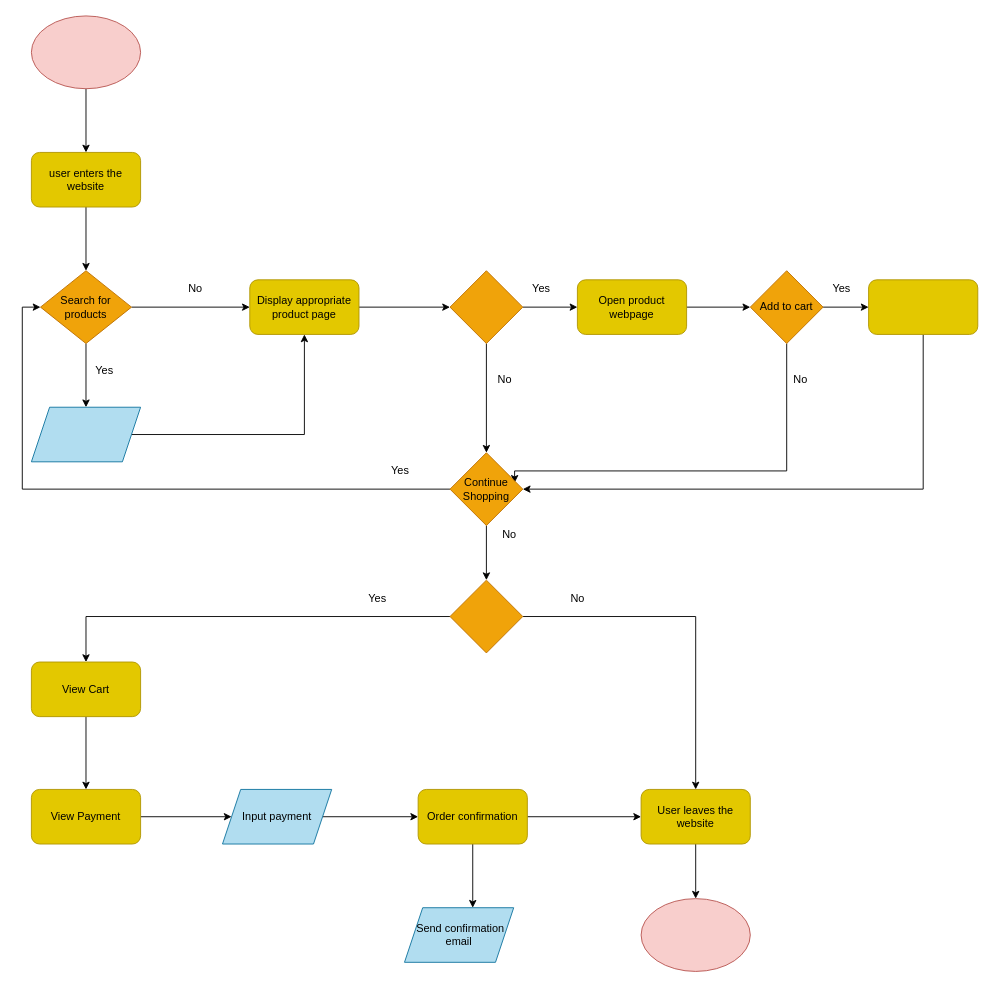
The diagram is 994 pixels wide and 987 high, and some of its shapes have lost their labels. The shapes that lost their labels are listed below. From the top down, each one's centre as x and y in pixels, then its label:
At point (85, 52): "start".
At point (486, 307): "View Product".
At point (923, 306): "Display add to cart confirmation".
At point (85, 434): "Read search input".
At point (486, 616): "Checkout".
At point (695, 934): "end".
